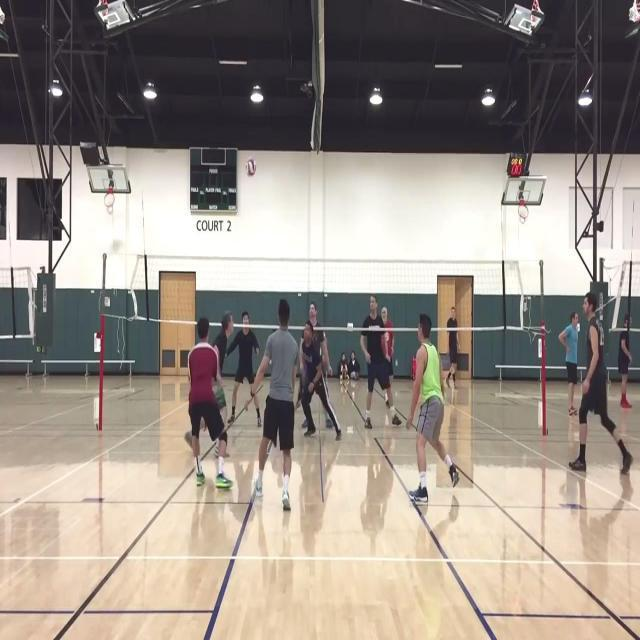volleyball: (246, 158, 256, 176)
